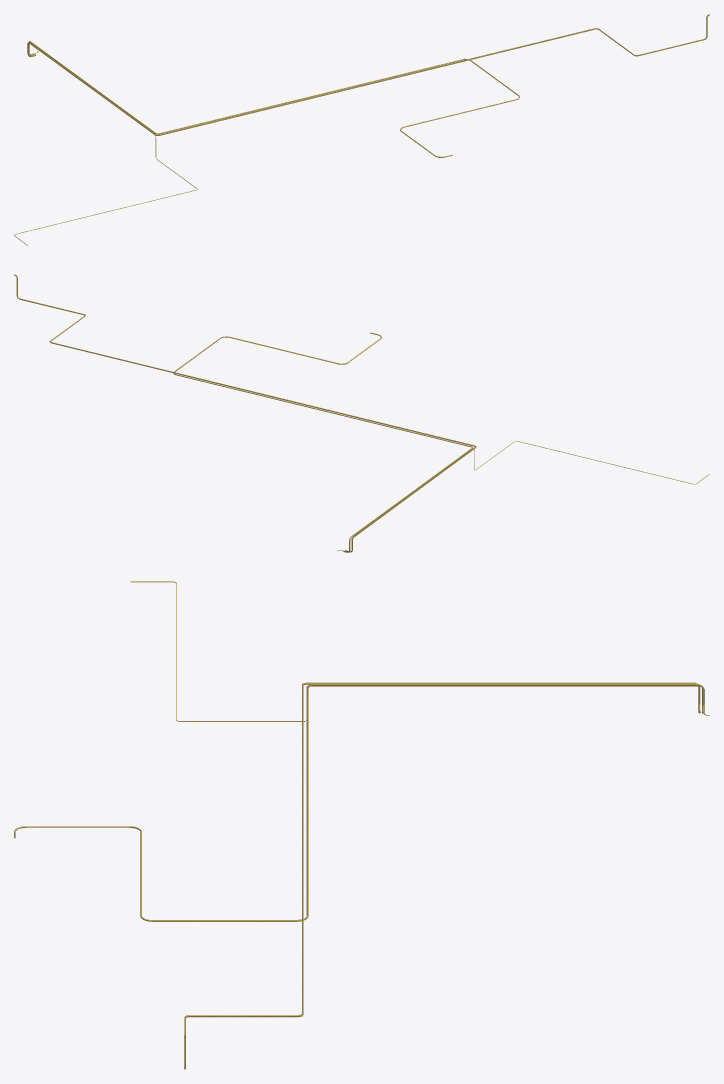
File: 天然气管道.glb
3 views of the same model, one above another, from view 1: azimuth 30°, elevation 25°; view 2: azimuth 150°, elevation 25°; view 3: azimuth 270°, elevation 25° (orthographic). The views are drawn at different scales.
Visible parts, largest first — view 1: 天然气管道00; view 2: 天然气管道00; view 3: 天然气管道00.
Boxes of the visible parts, x1,y1,x2,y2 form: 天然气管道00: [14, 14, 709, 245]; 天然气管道00: [14, 274, 709, 552]; 天然气管道00: [14, 581, 709, 1069].
Bounding box in the file's own units: 224 × 14.76 × 125.
Materials: 1 (1 with a texture image).
